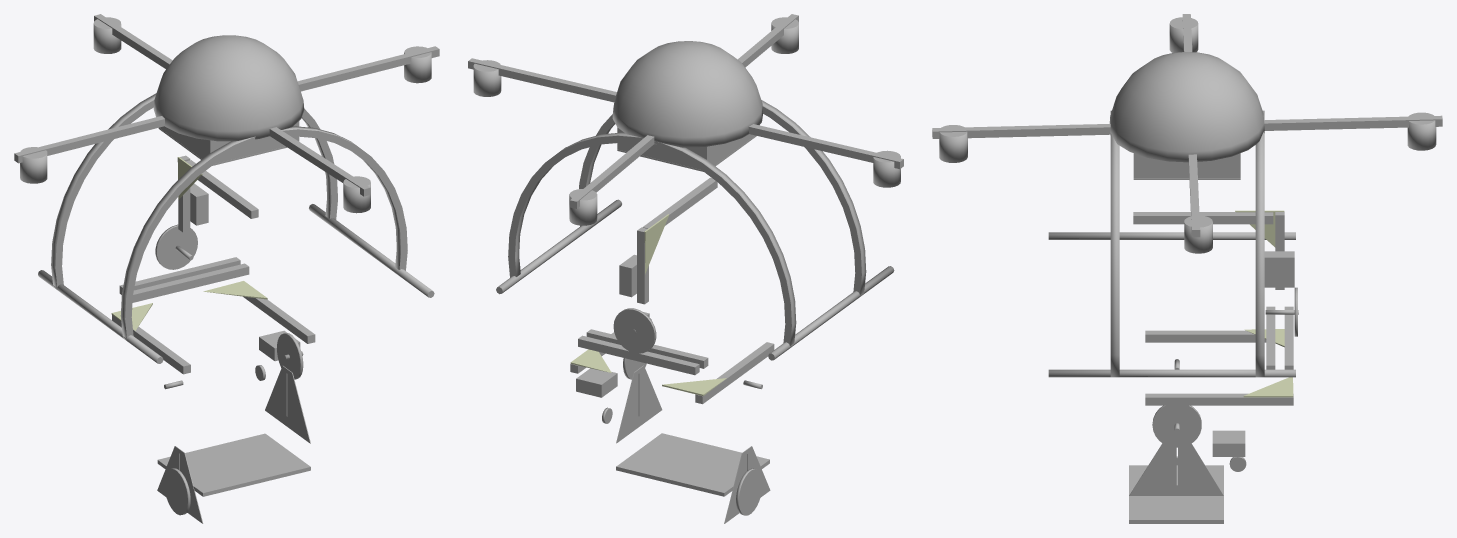
File: QuadXL-noCamera-newPivots.DAE
The picture shows the model from 3 angles, left to right: view 1: azimuth 30°, elevation 25°; view 2: azimuth 150°, elevation 25°; view 3: azimuth 270°, elevation 25°; orthographic projection. The views are drawn at different scales.
Visible parts, largest first — view 1: Quadro_Bulle, Quadro_TrainAvant, Box007, Quadro_TrainArriere, Quadro_BrasLateral, Box008, Box003, Cylinder002, Quadro_BlocBatterie, Quadro_brasLongitudinalAvant, Quadro_TrainGche, Quadro_TrainDte (+15 smaller); view 2: Quadro_Bulle, Quadro_TrainArriere, Box007, Quadro_BrasLateral, Quadro_TrainAvant, Box008, Cylinder002, Box004, Quadro_BlocBatterie, Quadro_TrainGche, Quadro_TrainDte, Quadro_brasLongitudinalArriere (+16 smaller); view 3: Quadro_Bulle, Box007, Box008, Quadro_TrainArriere, Quadro_TrainAvant, Quadro_TrainGche, Quadro_BlocBatterie, Quadro_brasLongitudinalArriere, Quadro_brasLongitudinalAvant, Box005, Cylinder005, Quadro_TrainDte (+12 smaller).
Part boxes in pixels (x1=…): Quadro_Bulle: x1=153, y1=35, x2=304, y2=141; Quadro_TrainAvant: x1=120, y1=126, x2=407, y2=340; Box007: x1=157, y1=433, x2=310, y2=496; Quadro_TrainArriere: x1=51, y1=93, x2=337, y2=289; Quadro_BrasLateral: x1=14, y1=46, x2=439, y2=163; Box008: x1=265, y1=366, x2=310, y2=443; Box003: x1=132, y1=263, x2=249, y2=302; Cylinder002: x1=155, y1=224, x2=197, y2=269; Quadro_BlocBatterie: x1=159, y1=121, x2=299, y2=163; Quadro_brasLongitudinalAvant: x1=269, y1=127, x2=370, y2=196; Quadro_TrainGche: x1=309, y1=204, x2=434, y2=297; Quadro_TrainDte: x1=38, y1=270, x2=163, y2=363; Quadro_Bulle: x1=612, y1=41, x2=763, y2=147; Quadro_TrainArriere: x1=508, y1=132, x2=796, y2=347; Box007: x1=616, y1=433, x2=769, y2=496; Quadro_BrasLateral: x1=468, y1=58, x2=903, y2=169; Quadro_TrainAvant: x1=579, y1=100, x2=866, y2=296; Box008: x1=616, y1=365, x2=662, y2=443; Cylinder002: x1=613, y1=308, x2=656, y2=353; Box004: x1=578, y1=335, x2=699, y2=375; Quadro_BlocBatterie: x1=617, y1=127, x2=755, y2=169; Quadro_TrainGche: x1=496, y1=199, x2=621, y2=294; Quadro_TrainDte: x1=768, y1=266, x2=894, y2=360; Quadro_brasLongitudinalArriere: x1=570, y1=135, x2=654, y2=208; Quadro_Bulle: x1=1109, y1=52, x2=1264, y2=162; Box007: x1=1129, y1=465, x2=1223, y2=523; Box008: x1=1129, y1=443, x2=1223, y2=495; Quadro_TrainArriere: x1=1255, y1=110, x2=1264, y2=377; Quadro_TrainAvant: x1=1110, y1=110, x2=1119, y2=377; Quadro_TrainGche: x1=1048, y1=369, x2=1295, y2=377; Quadro_BlocBatterie: x1=1133, y1=153, x2=1240, y2=178; Quadro_brasLongitudinalArriere: x1=1264, y1=115, x2=1442, y2=130; Quadro_brasLongitudinalAvant: x1=932, y1=124, x2=1110, y2=138; Box005: x1=1145, y1=393, x2=1293, y2=405; Cylinder005: x1=1152, y1=405, x2=1201, y2=447; Quadro_TrainDte: x1=1048, y1=232, x2=1295, y2=239.
Bounding box in the file's own units: 0.6201 × 0.6196 × 0.6323.
